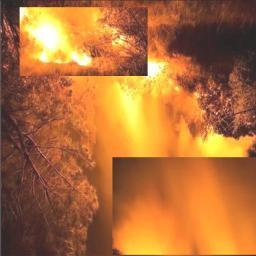Medium fire: (70, 75, 256, 256)
Small fire: (18, 6, 103, 74)
